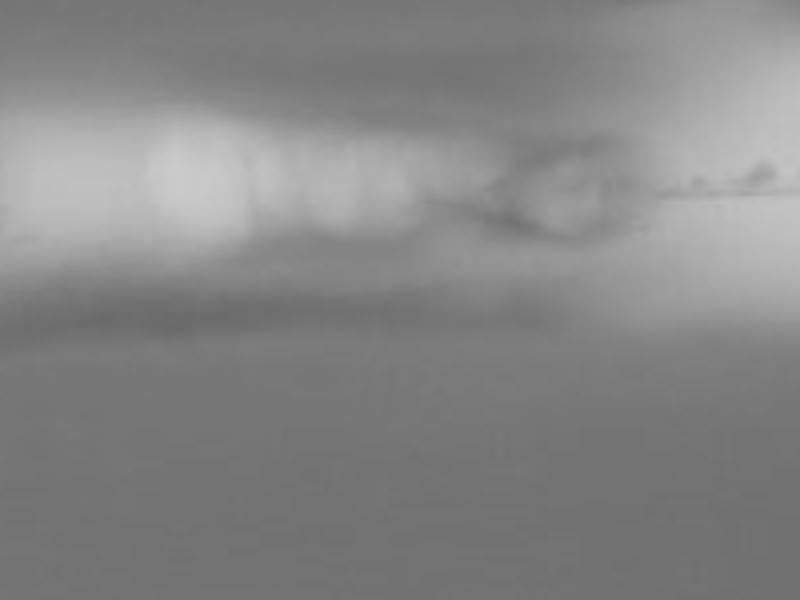defect: (729, 158, 778, 193), (688, 172, 708, 192)
